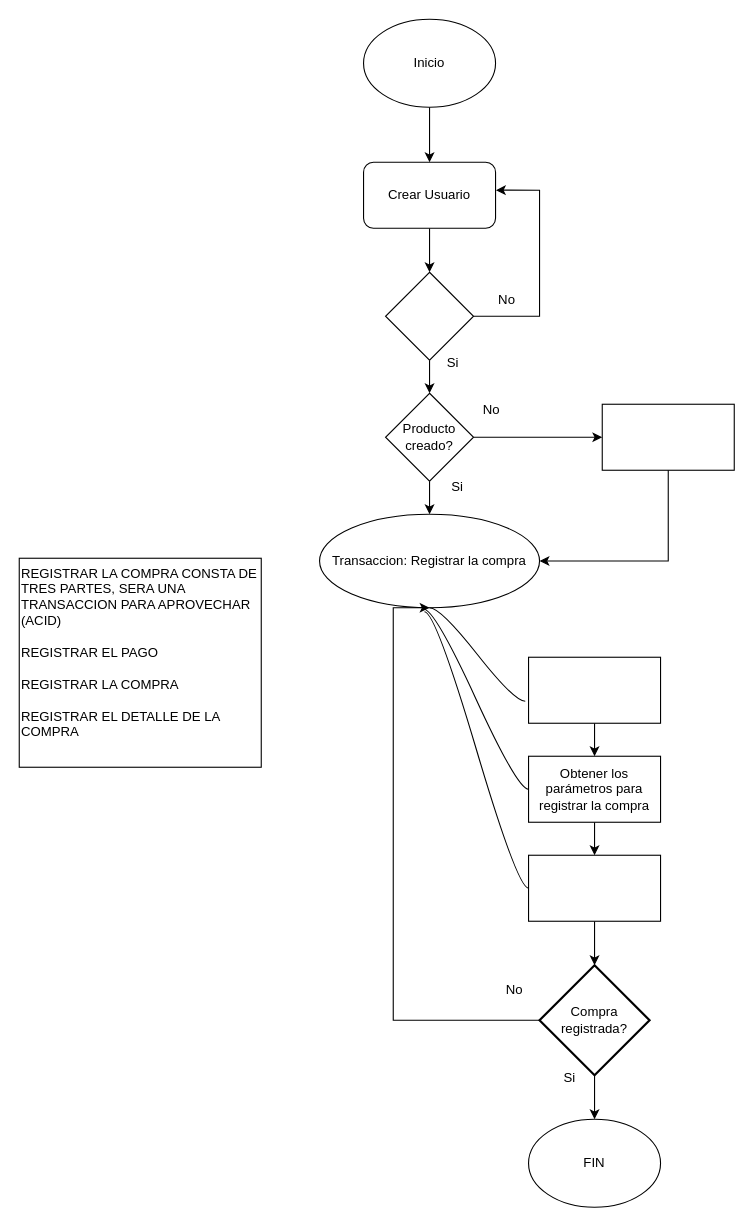
This 754x1227 diagram has some shape labels left out. Each missing label, with the centre of its shape:
Crear Producto: the point at 667,436
Obtener los parámetros para registrar el pago: the point at 594,689
Se registra el detalle de las compras: the point at 594,887
Usuario creado?: the point at 429,315
